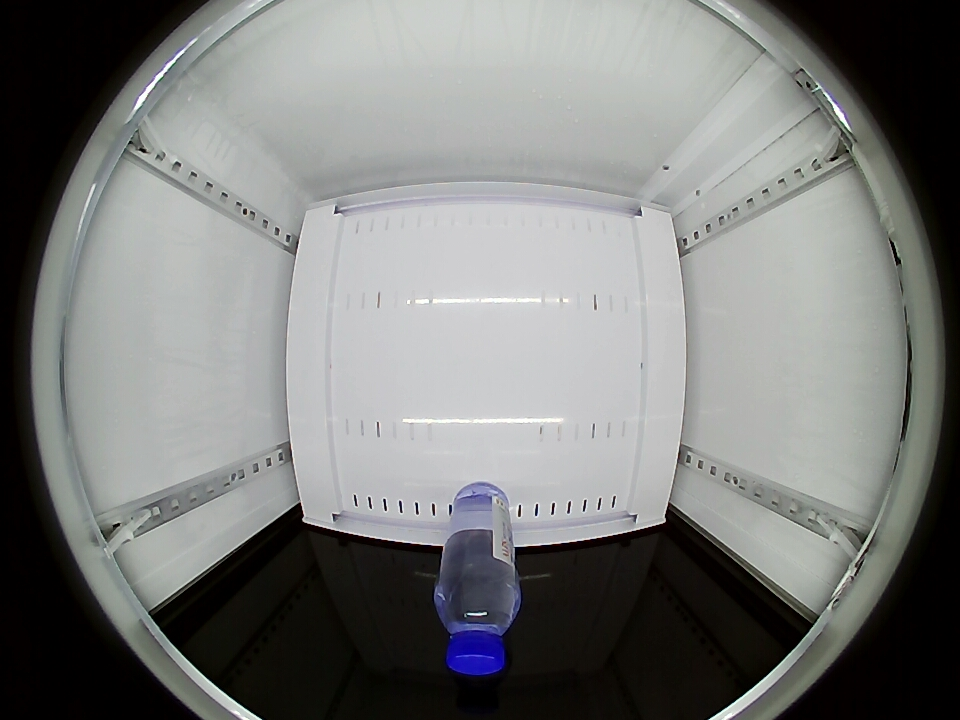aerbeisi: (436, 567, 521, 677)
